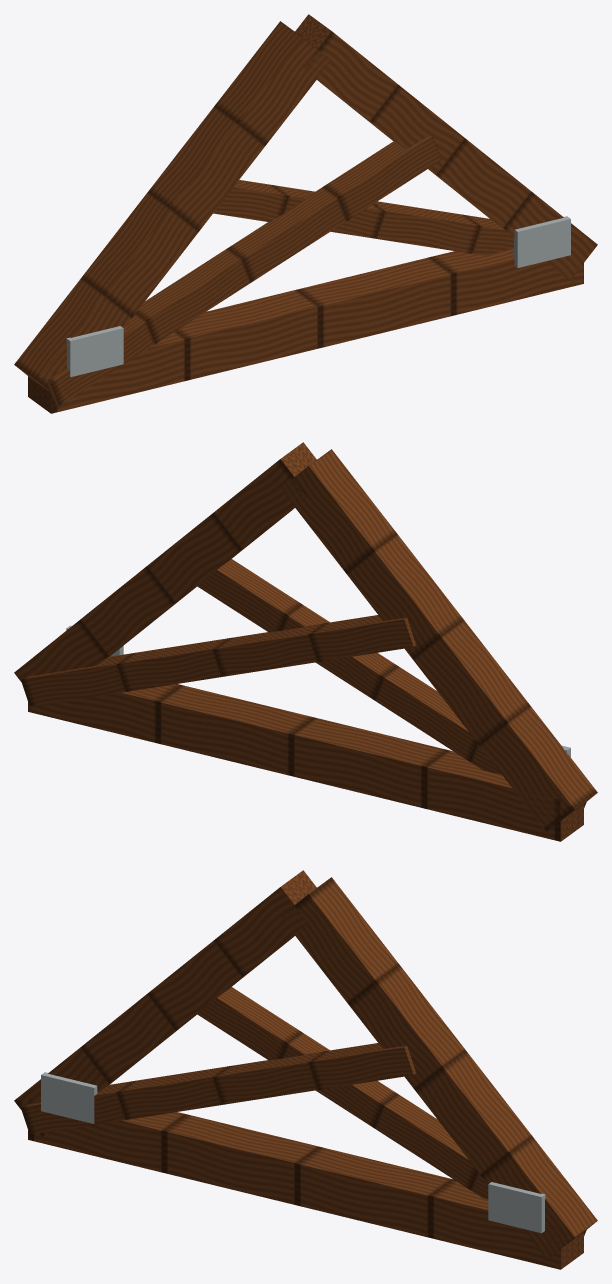
Rendered from modular-survival-base-builder-scissor-truss-a7683bf1__24251.glb.
The picture shows the model from 3 angles, top to bottom: view 1: azimuth 30°, elevation 25°; view 2: azimuth 150°, elevation 25°; view 3: azimuth 330°, elevation 25°; orthographic projection.
Visible parts, largest first — view 1: scissor-truss; view 2: scissor-truss; view 3: scissor-truss.
Boxes of the visible parts, x1,y1,x2,y2 form: scissor-truss: (14,14,597,413); scissor-truss: (14,442,597,841); scissor-truss: (14,870,597,1269).
Size of the model in its own units: 2.11 by 1.13 by 0.1887.
2 materials, 1 textured.
